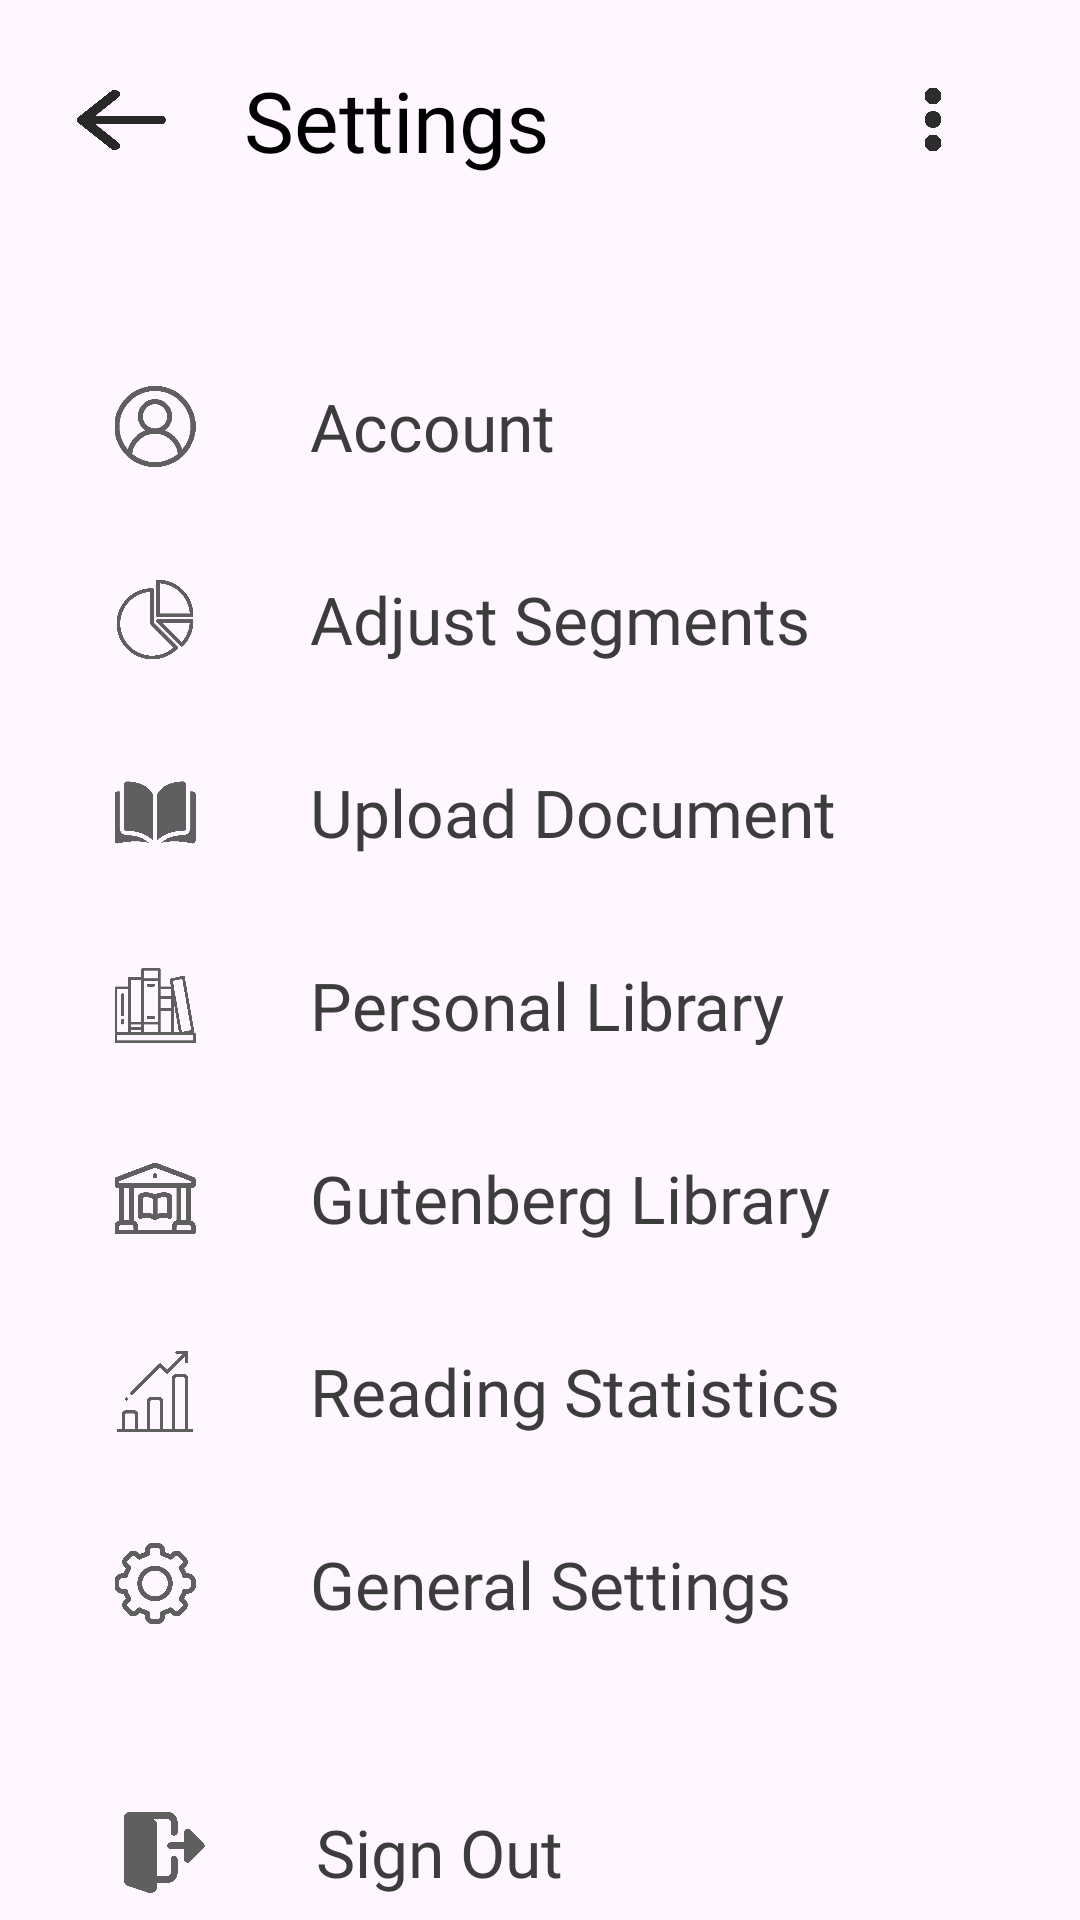

Screen size 1080px x 1920px. Icon name, then its box in pixels as (x1, y1, x2, y2):
arrow: (77, 90, 166, 150)
bar chart: (117, 1351, 193, 1432)
market share: (117, 580, 193, 659)
open book: (115, 781, 196, 844)
three vertical dots: (925, 88, 941, 151)
user: (115, 386, 196, 467)
